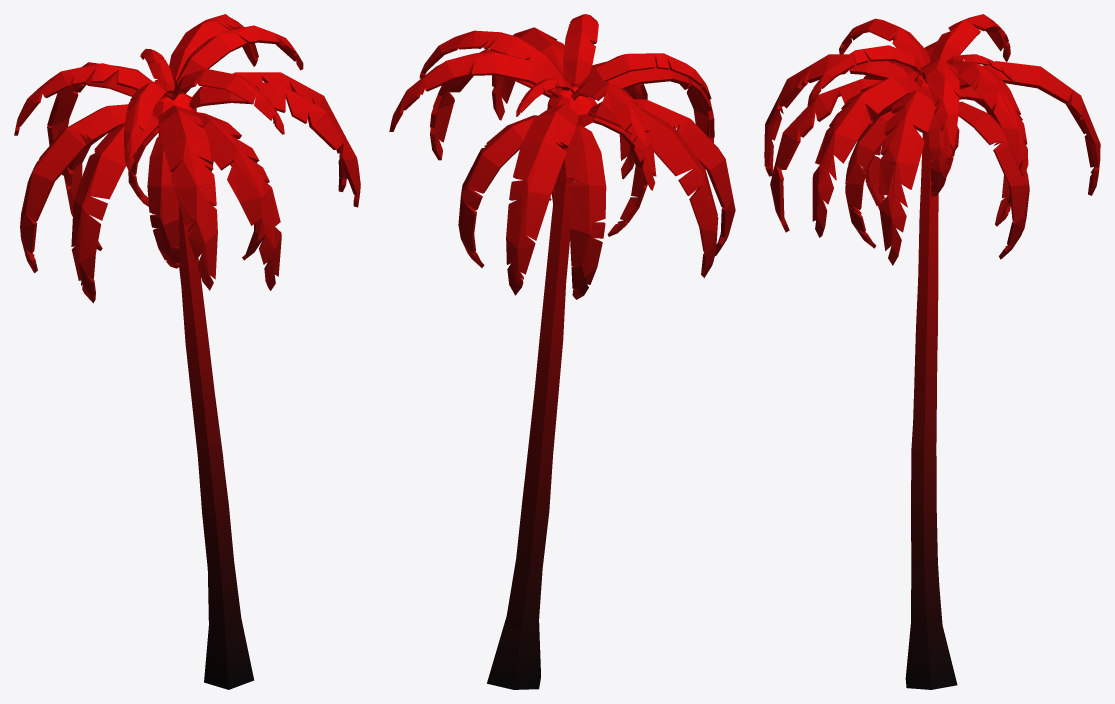
The model's file is TreePalm08.fbx.
3 renders of one model, left to right at view 1: azimuth 30°, elevation 25°; view 2: azimuth 150°, elevation 25°; view 3: azimuth 270°, elevation 25°, orthographic. The views are drawn at different scales.
Visible parts, largest first — view 1: TreePalm08_LOD0; view 2: TreePalm08_LOD0; view 3: TreePalm08_LOD0.
Part boxes in pixels (bbox=[...]): TreePalm08_LOD0: bbox=[14, 14, 360, 689]; TreePalm08_LOD0: bbox=[389, 14, 735, 689]; TreePalm08_LOD0: bbox=[764, 14, 1100, 689].
Size of what is drawn, in the model's own units: 393 by 793 by 387.
